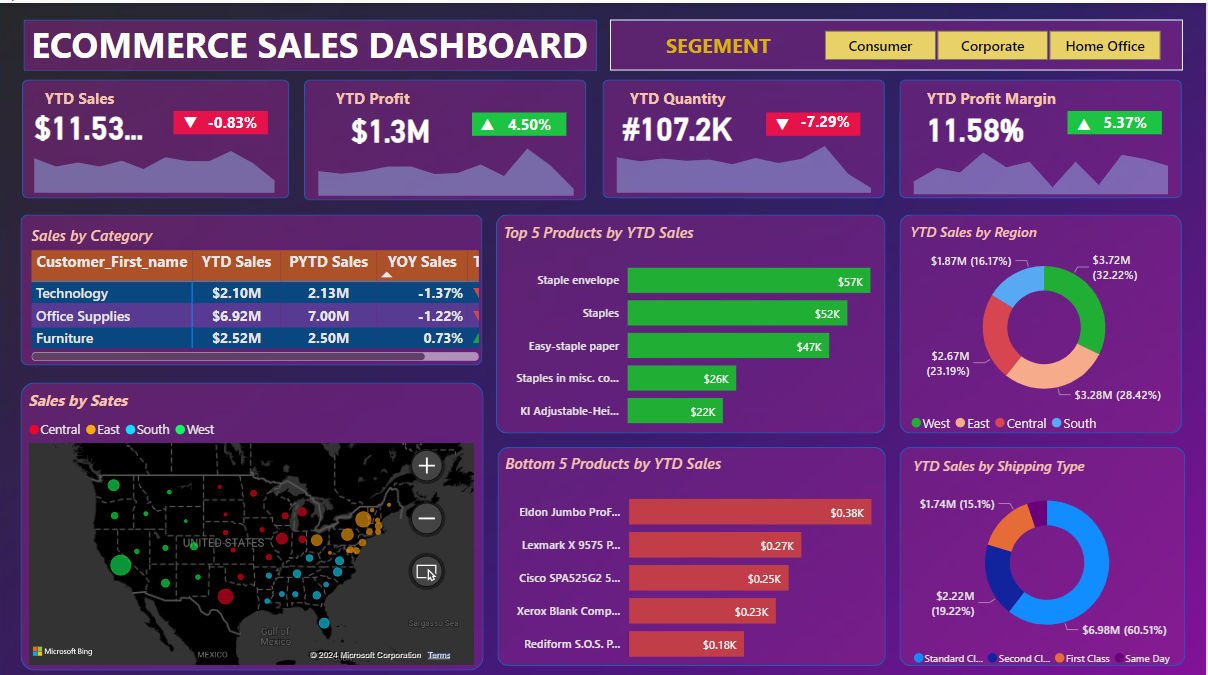

This screenshot's page, from the dashboard's own definition file:
{"tool":"powerbi","page":{"name":"Page 1","canvas":[1280,720],"ordinal":0},"visuals":[{"type":"shape","box":[26.9,17.1,607.9,54.9],"z":0},{"type":"textbox","box":[30.5,13.4,628.7,64.7],"z":1000},{"type":"shape","box":[26,81.8,283.1,126],"z":2000},{"type":"card","fields":{"Values":["ecommerce_data.YTD Sales"]},"box":[30.5,102.5,130.6,53.7],"z":3000},{"type":"areaChart","fields":{"Category":["Calendar.Month"],"Y":["Sum(ecommerce_data.sales_per_order)"]},"box":[24.4,135.5,283.2,70.8],"z":4000},{"type":"shape","box":[186,114,100,24.4],"z":5000},{"type":"card","fields":{"Values":["ecommerce_data.YOY Sales"]},"box":[209.3,114,76.7,28],"z":6000},{"type":"card","fields":{"Values":["ecommerce_data.Sales Icon"]},"box":[164.8,112.3,76.9,29.3],"z":7000},{"type":"textbox","box":[45.2,84.2,101.3,31.7],"z":8000},{"type":"shape","box":[640.9,80.6,299.1,125.7],"z":9000},{"type":"card","fields":{"Values":["ecommerce_data.YTD Concatenated Qty"]},"box":[648.2,105,141.6,52.5],"z":10000},{"type":"areaChart","fields":{"Category":["Calendar.Month"],"Y":["Sum(ecommerce_data.order_quantity)"]},"box":[640.9,135.5,299.1,70.8],"z":11000},{"type":"shape","box":[814.3,115.3,100,24.4],"z":12000},{"type":"card","fields":{"Values":["ecommerce_data.YOY Qty"]},"box":[837.4,113.5,76.9,28.1],"z":13000},{"type":"card","fields":{"Values":["ecommerce_data.Qty Icon"]},"box":[793.4,114.7,75.7,29.3],"z":14000},{"type":"textbox","box":[664.5,84.4,129,31.4],"z":15000},{"type":"shape","box":[955.8,81.8,299.1,125.7],"z":16000},{"type":"areaChart","fields":{"Category":["Calendar.Month"],"Y":["ecommerce_data.Profit Margin"]},"box":[955.8,136.7,299.1,70.8],"z":17000},{"type":"shape","box":[1132.8,114.7,100.1,24.4],"z":18000},{"type":"card","fields":{"Values":["ecommerce_data.YOY Profit Margin"]},"box":[1156,114.7,76.9,26.9],"z":19000},{"type":"card","fields":{"Values":["ecommerce_data.Profit Margin Icon"]},"box":[1112,114.7,75.7,29.3],"z":20000},{"type":"textbox","box":[979,84.2,167.2,31.7],"z":21000},{"type":"card","fields":{"Values":["ecommerce_data.YTD Profit Margin"]},"box":[964.3,105,140.4,53.7],"z":22000},{"type":"shape","box":[23.2,224.6,489.5,159.9],"z":23000},{"type":"shape","box":[324.7,80.6,299.1,128.2],"z":24000},{"type":"card","fields":{"Values":["ecommerce_data.YTD Profit"]},"box":[334.5,106.2,163.6,53.7],"z":25000},{"type":"areaChart","fields":{"Category":["Calendar.Month"],"Y":["Sum(ecommerce_data.profit_per_order)"]},"box":[323.5,137.9,300.3,70.8],"z":26000},{"type":"shape","box":[501.8,116.4,100,24.4],"z":27000},{"type":"card","fields":{"Values":["ecommerce_data.YOY Profit"]},"box":[525,116.4,76.7,27.9],"z":28000},{"type":"card","fields":{"Values":["ecommerce_data.Profit Icon"]},"box":[480.7,114.7,76.9,29.3],"z":29000},{"type":"textbox","box":[352.8,84.2,101.3,34.2],"z":30000},{"type":"pivotTable","title":"Sales by Category","fields":{"Rows":["ecommerce_data.category_name"],"Values":["ecommerce_data.YTD Sales","ecommerce_data.PYTD Sales","ecommerce_data.YOY Sales","ecommerce_data.Sales Icon"]},"box":[30.5,235.6,484.6,148.9],"z":31000},{"type":"shape","box":[23.2,401.6,490.7,305.2],"z":32000},{"type":"map","title":"Sales by Sates","fields":{"Y":["us_state_long_lat_codes.latitude"],"X":["us_state_long_lat_codes.longitude"],"Size":["ecommerce_data.YTD Sales"],"Series":["ecommerce_data.customer_region"]},"box":[26.9,410.1,482.2,296.6],"z":33000},{"type":"shape","box":[527.3,224.6,412.6,231.9],"z":34000},{"type":"shape","box":[528.6,471.2,411.4,231.9],"z":35000},{"type":"barChart","title":"Top 5 Products by YTD Sales","fields":{"Category":["ecommerce_data.product_name"],"Y":["ecommerce_data.YTD Sales"]},"box":[530.6,232.6,411.4,232.6],"z":36000},{"type":"barChart","title":"Bottom 5 Products by YTD Sales","fields":{"Category":["ecommerce_data.product_name"],"Y":["ecommerce_data.YTD Sales"]},"box":[532,476.8,411.4,235.5],"z":37000},{"type":"shape","box":[955.8,224.6,299.1,231.9],"z":38000},{"type":"shape","box":[648.2,17.1,606.7,54.9],"z":39000},{"type":"shape","box":[955.8,471.2,302.7,231.9],"z":40000},{"type":"donutChart","title":"YTD Sales by Region","fields":{"Y":["ecommerce_data.YTD Sales"],"Category":["ecommerce_data.customer_region"]},"box":[961.9,231.9,293,231.9],"z":41000},{"type":"donutChart","title":"YTD Sales by Shipping Type","fields":{"Y":["ecommerce_data.YTD Sales"],"Category":["ecommerce_data.shipping_type"]},"box":[964.3,479.7,293,231.9],"z":42000},{"type":"slicer","fields":{"Values":["ecommerce_data.customer_segment"]},"box":[849.6,22,405.3,45.2],"z":43000},{"type":"textbox","box":[703.1,24.4,146.5,47.6],"z":44000}]}

Visuals, with their boxes in screenshot pixels (x1, y1, x2, y2), scaled from the page's 1280x720 canvas onto the 1208x675 screenshot:
shape: 25,16,599,68
textbox: 29,13,622,73
shape: 25,77,292,195
card - ecommerce_data.YTD Sales: 29,96,152,146
areaChart - Calendar.Month x Sum(ecommerce_data.sales_per_order): 23,127,290,193
shape: 176,107,270,130
card - ecommerce_data.YOY Sales: 198,107,270,133
card - ecommerce_data.Sales Icon: 156,105,228,133
textbox: 43,79,138,109
shape: 605,76,887,193
card - ecommerce_data.YTD Concatenated Qty: 612,98,745,148
areaChart - Calendar.Month x Sum(ecommerce_data.order_quantity): 605,127,887,193
shape: 768,108,863,131
card - ecommerce_data.YOY Qty: 790,106,863,133
card - ecommerce_data.Qty Icon: 749,108,820,135
textbox: 627,79,749,109
shape: 902,77,1184,195
areaChart - Calendar.Month x ecommerce_data.Profit Margin: 902,128,1184,195
shape: 1069,108,1164,130
card - ecommerce_data.YOY Profit Margin: 1091,108,1164,133
card - ecommerce_data.Profit Margin Icon: 1049,108,1121,135
textbox: 924,79,1082,109
card - ecommerce_data.YTD Profit Margin: 910,98,1043,149
shape: 22,211,484,360
shape: 306,76,589,196
card - ecommerce_data.YTD Profit: 316,100,470,150
areaChart - Calendar.Month x Sum(ecommerce_data.profit_per_order): 305,129,589,196
shape: 474,109,568,132
card - ecommerce_data.YOY Profit: 495,109,568,135
card - ecommerce_data.Profit Icon: 454,108,526,135
textbox: 333,79,429,111
"Sales by Category" pivotTable: 29,221,486,360
shape: 22,376,485,663
"Sales by Sates" map: 25,384,480,663
shape: 498,211,887,428
shape: 499,442,887,659
"Top 5 Products by YTD Sales" barChart: 501,218,889,436
"Bottom 5 Products by YTD Sales" barChart: 502,447,890,668
shape: 902,211,1184,428
shape: 612,16,1184,68
shape: 902,442,1188,659
"YTD Sales by Region" donutChart: 908,217,1184,435
"YTD Sales by Shipping Type" donutChart: 910,450,1187,667
slicer - ecommerce_data.customer_segment: 802,21,1184,63
textbox: 664,23,802,68
